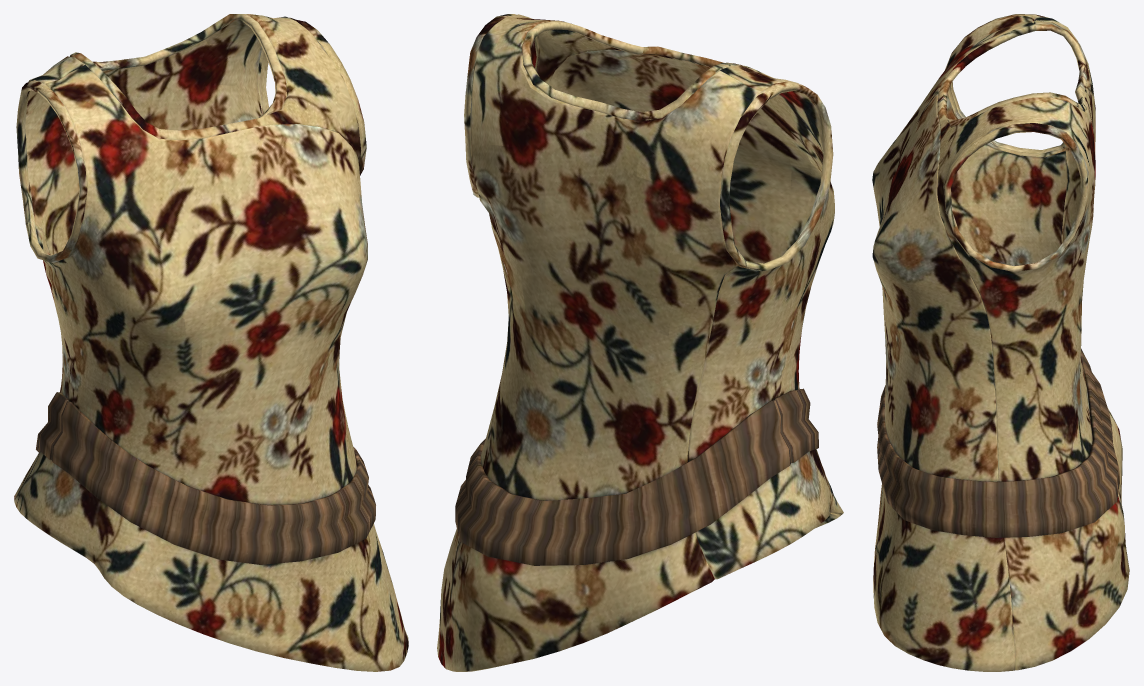
Rendered from drednicolson-asymmetric-tunic-and-sash.glb.
The picture shows the model from 3 angles, left to right: view 1: azimuth 30°, elevation 25°; view 2: azimuth 150°, elevation 25°; view 3: azimuth 270°, elevation 25°; orthographic projection. The views are drawn at different scales.
Visible parts, largest first — view 1: asymmetric tunic and sash; view 2: asymmetric tunic and sash; view 3: asymmetric tunic and sash.
Part boxes in pixels (<box>): asymmetric tunic and sash: <box>14,14,408,671</box>; asymmetric tunic and sash: <box>437,14,843,671</box>; asymmetric tunic and sash: <box>872,14,1129,671</box>.
Bounding box in the file's own units: 38.04 × 63.14 × 27.64.
1 material, 1 textured.
